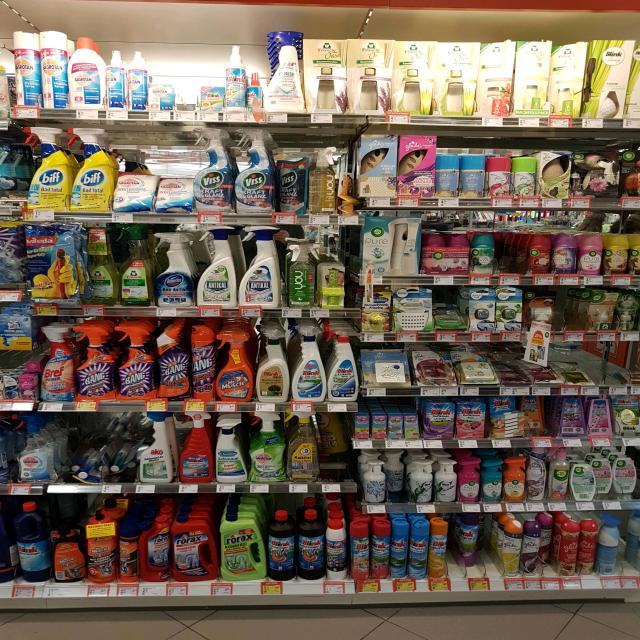empty: (552, 288, 592, 340), (173, 45, 198, 119), (482, 507, 503, 588), (444, 510, 464, 590)
